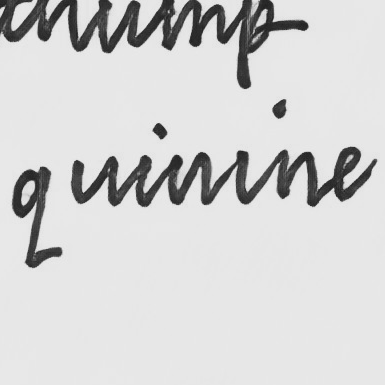e: (330, 144, 371, 202)
i: (131, 122, 161, 211), (229, 146, 256, 207)
n: (164, 150, 216, 209), (274, 146, 321, 207)
q: (9, 164, 56, 270)
u: (67, 151, 121, 209)
